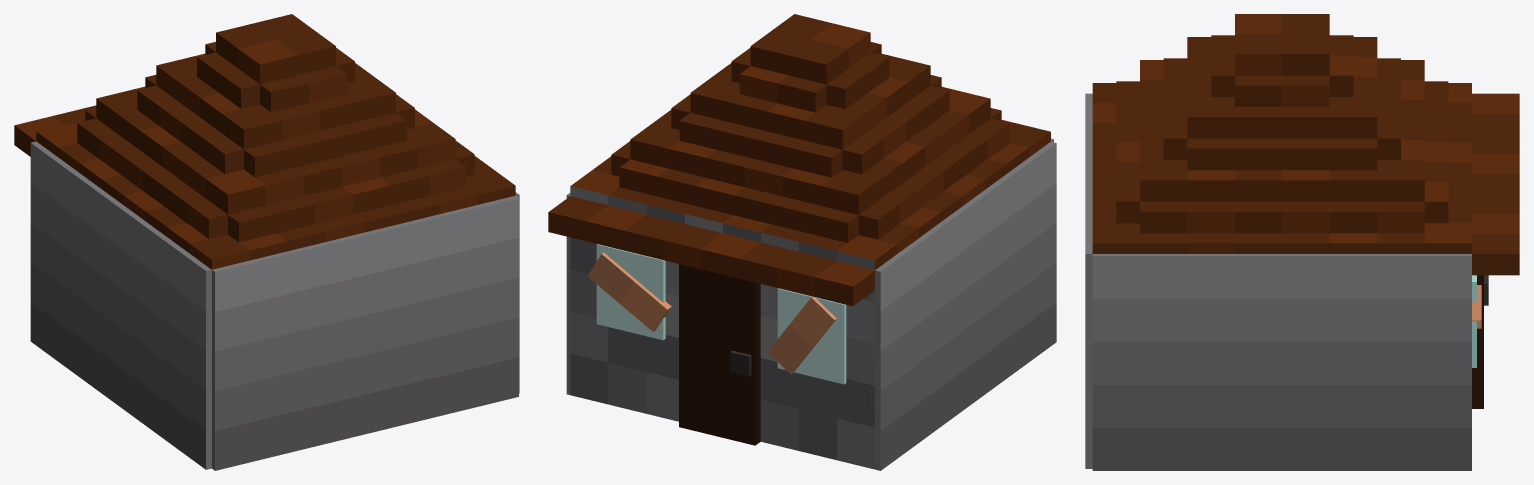
File: revolution_base_revolt.obj
3 views of the same model, side by side, from view 1: azimuth 30°, elevation 25°; view 2: azimuth 150°, elevation 25°; view 3: azimuth 270°, elevation 25° (orthographic). The views are drawn at different scales.
Parts seen in each view (by area): view 1: cube; view 2: cube; view 3: cube.
Part boxes in pixels (<box>): cube: <box>14,14,519,470</box>; cube: <box>548,14,1056,470</box>; cube: <box>1085,14,1519,470</box>.
Bounding box in the file's own units: 0.5156 × 0.5156 × 0.5719.
